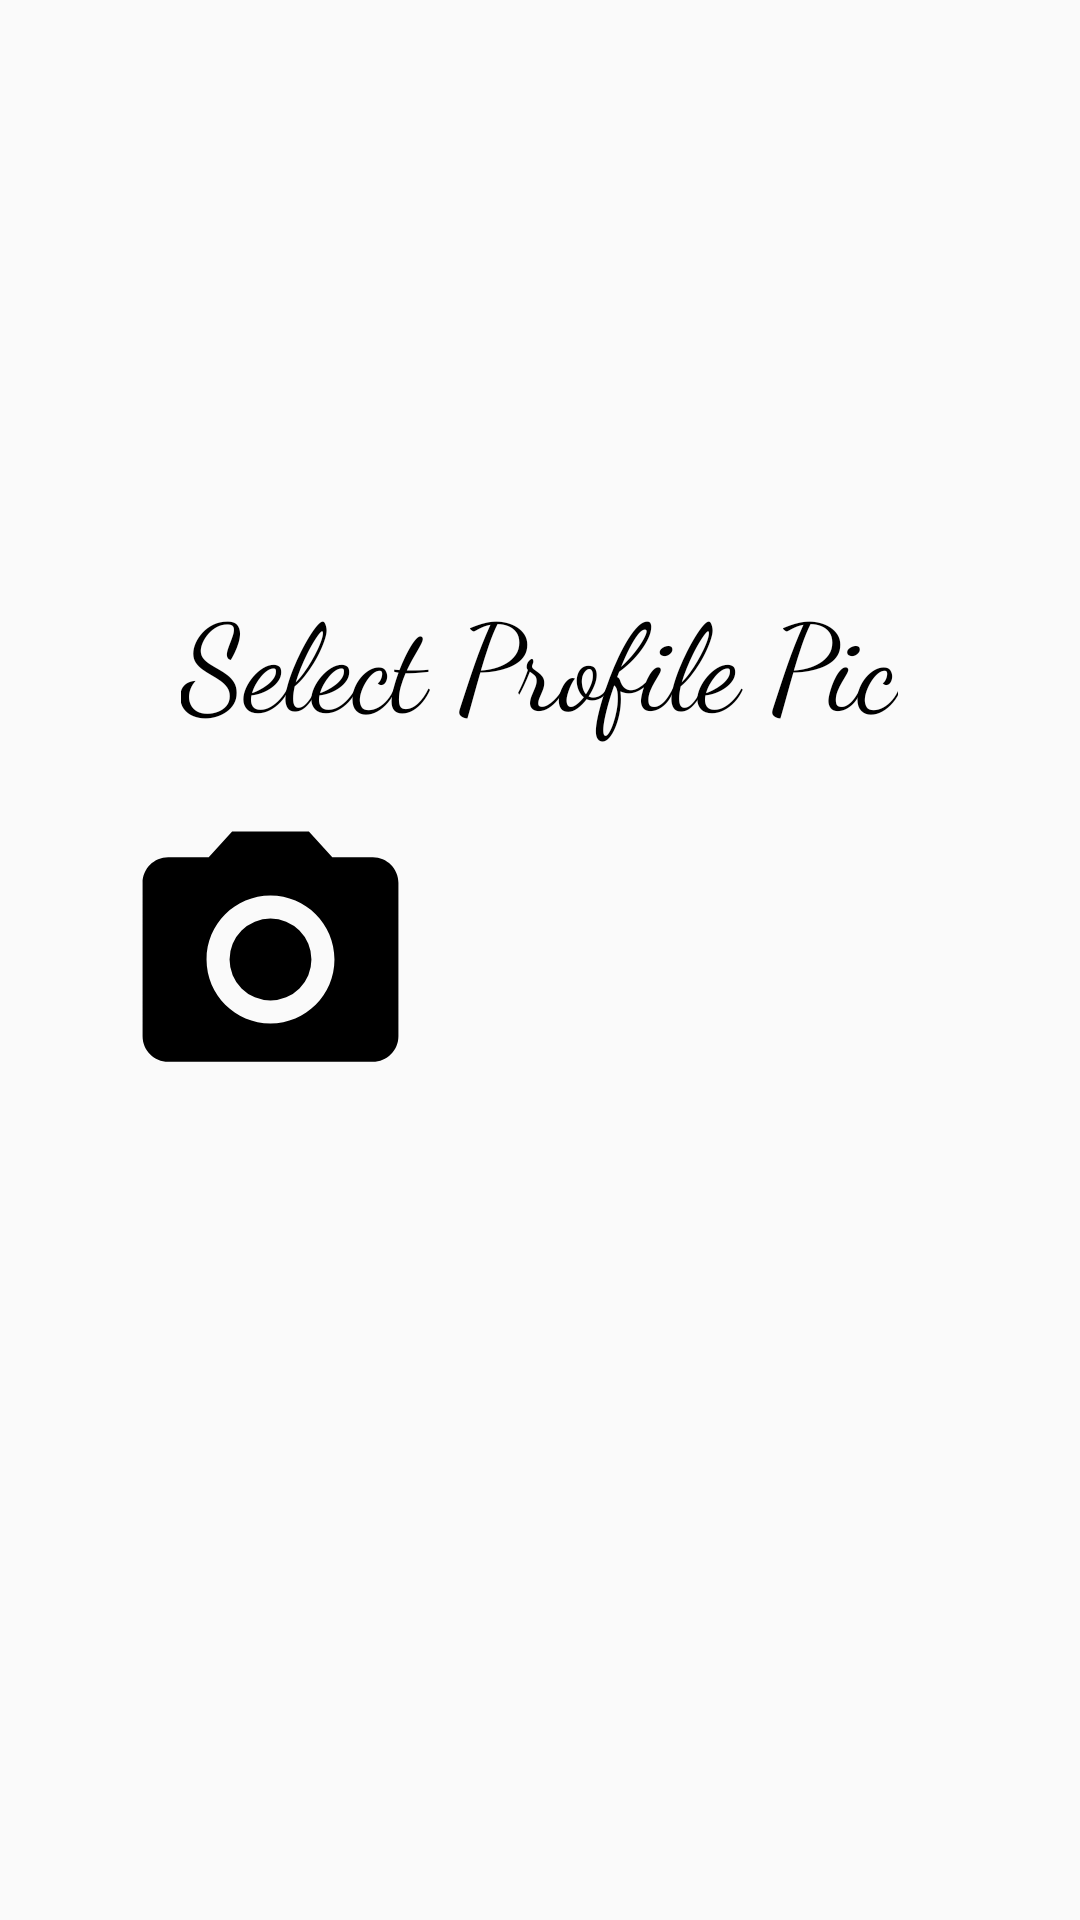

Icon click points for this 1080x1920 phone screenshot, format [x,y]:
camera: [270,946]
